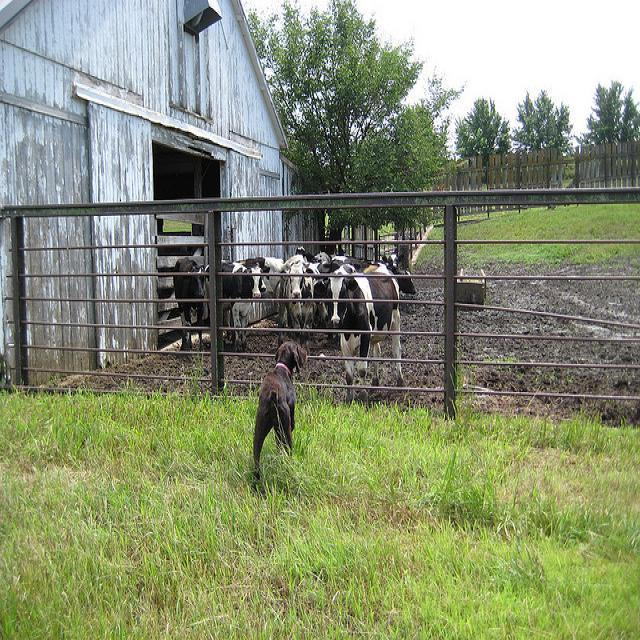cow: (311, 265, 408, 407), (220, 257, 261, 356), (171, 258, 204, 354), (280, 263, 317, 332), (360, 259, 416, 293), (235, 255, 282, 272), (316, 257, 342, 271)
